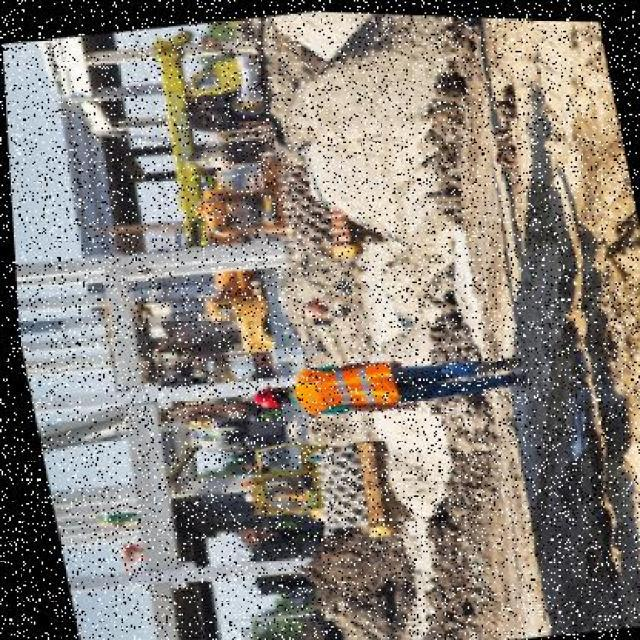helmet: (242, 379, 276, 411)
vest: (274, 349, 404, 421)
